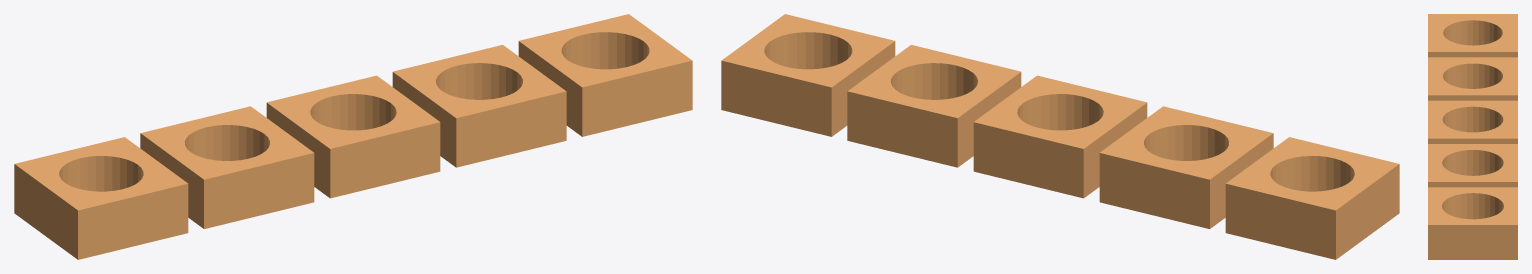
Rendered from calibration-piece.glb.
The picture shows the model from 3 angles, left to right: view 1: azimuth 30°, elevation 25°; view 2: azimuth 150°, elevation 25°; view 3: azimuth 270°, elevation 25°; orthographic projection. The views are drawn at different scales.
Visible parts, largest first — view 1: calibration-piece; view 2: calibration-piece; view 3: calibration-piece.
Part boxes in pixels (left/top/right/bottom): calibration-piece: left=14, top=14, right=692, bottom=259; calibration-piece: left=721, top=14, right=1399, bottom=259; calibration-piece: left=1428, top=14, right=1517, bottom=259.
Bounding box in the file's own units: 0.078 × 0.006 × 0.014.
